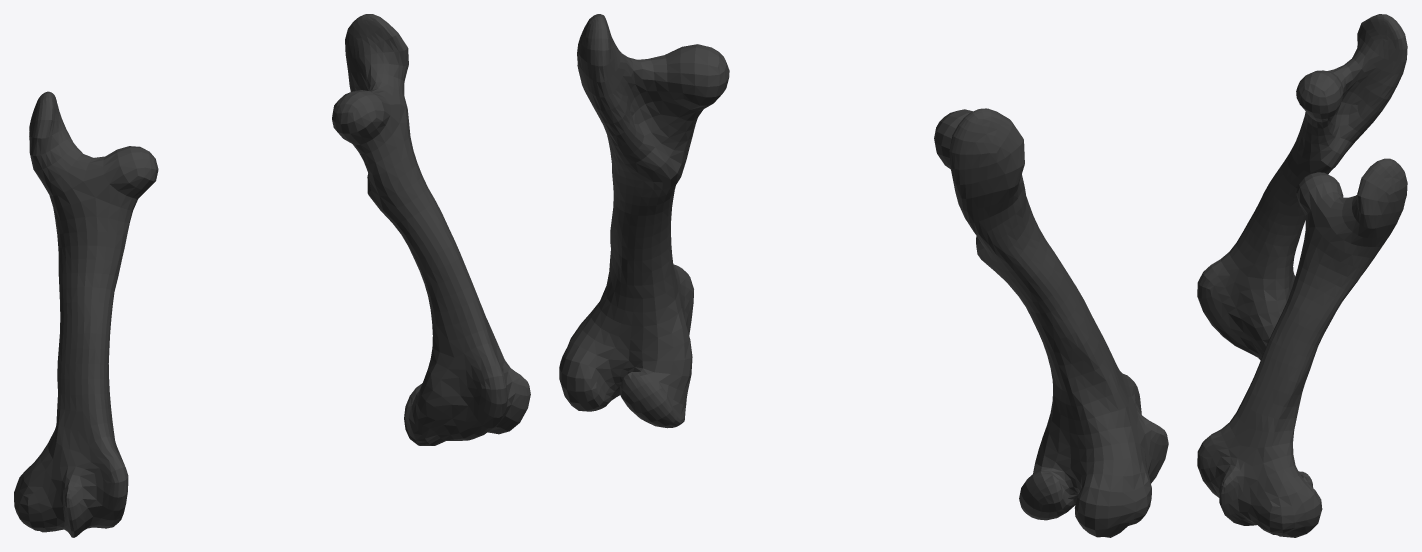
Rendered from b_femur_L_LO.glb.
3 renders of one model, left to right at view 1: azimuth 30°, elevation 25°; view 2: azimuth 150°, elevation 25°; view 3: azimuth 270°, elevation 25°, orthographic. The views are drawn at different scales.
Visible parts, largest first — view 1: b_femur_L_LO; view 2: b_femur_L_LO; view 3: b_femur_L_LO.
Part boxes in pixels (box(x1,y1,x2,y2)): b_femur_L_LO: box(14, 14, 530, 537); b_femur_L_LO: box(559, 14, 1168, 537); b_femur_L_LO: box(1197, 14, 1407, 537).
Size of the model in its own units: 0.00546 by 0.00409 by 0.0022.
1 material, 1 textured.
